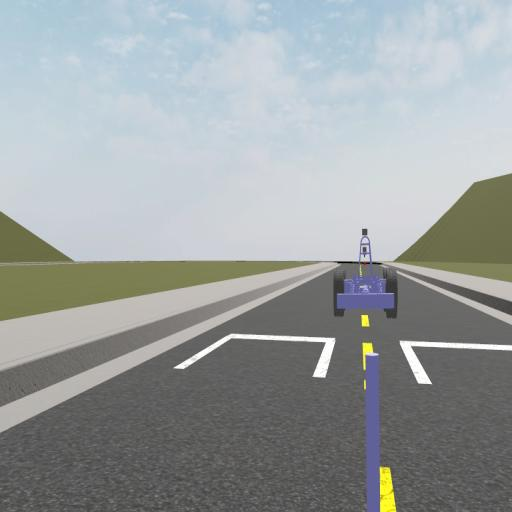ERP-42: (333, 228, 398, 318)
